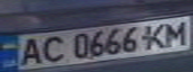0: (66, 29, 90, 60)
6: (103, 26, 127, 56), (121, 25, 145, 53), (87, 28, 109, 57)
A: (15, 35, 48, 68)
C: (36, 34, 69, 64)
K: (142, 21, 172, 50)
M: (160, 18, 190, 46)
